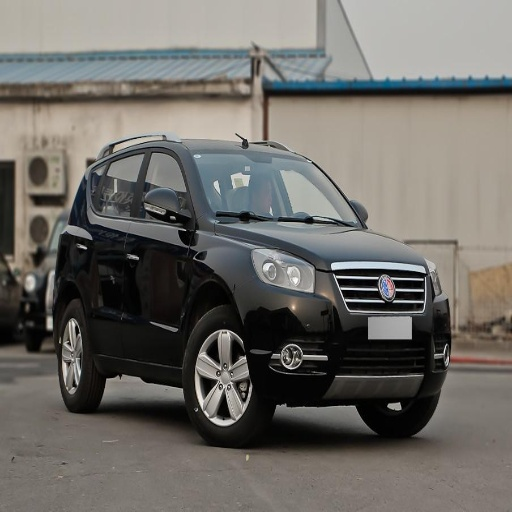front_bumper: (240, 265, 450, 397)
front_right_door: (126, 144, 194, 358)
front_right_light: (253, 248, 317, 292)
